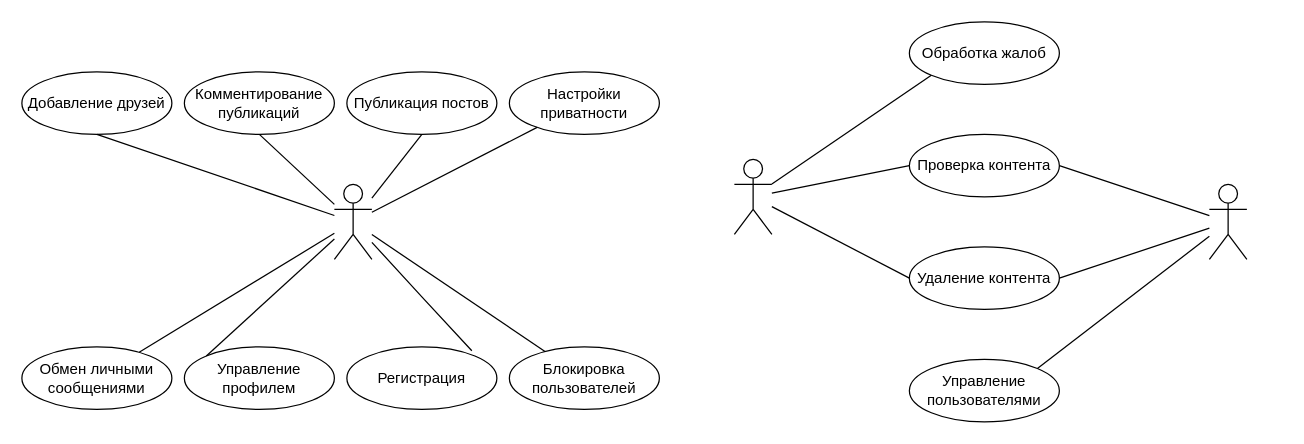
The diagram is 1304 pixels wide and 444 high, and some of its shapes have lost their labels. Each missing label, with the box of its shape:
Администратор: (1208, 183, 1247, 259)
Модератор: (733, 158, 772, 234)
Пользователь: (333, 183, 372, 259)
